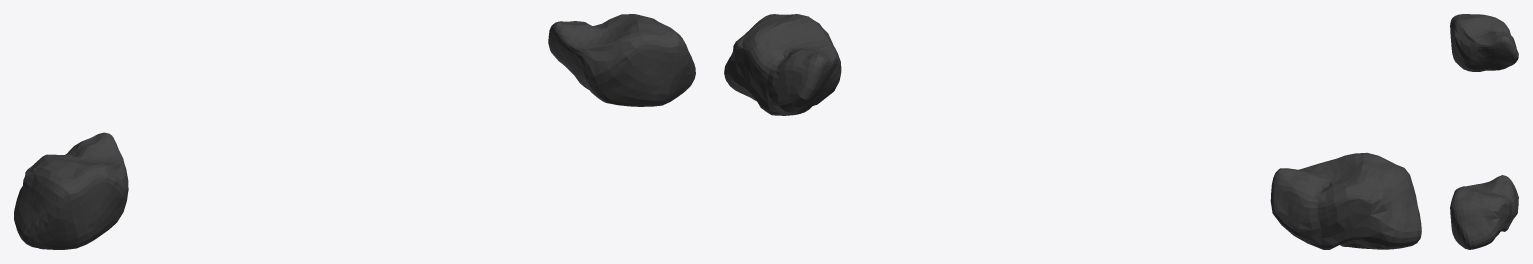
File: Carpal_intermedioradial_1.glb
3 views of the same model, side by side, from view 1: azimuth 30°, elevation 25°; view 2: azimuth 150°, elevation 25°; view 3: azimuth 270°, elevation 25° (orthographic). The views are drawn at different scales.
Visible parts, largest first — view 1: Carpal_intermedioradial_1; view 2: Carpal_intermedioradial_1; view 3: Carpal_intermedioradial_1.
Part boxes in pixels (left/top/right/bottom): Carpal_intermedioradial_1: left=14, top=14, right=695, bottom=249; Carpal_intermedioradial_1: left=724, top=14, right=1421, bottom=249; Carpal_intermedioradial_1: left=1450, top=14, right=1518, bottom=249.
Bounding box in the file's own units: 0.00342 × 0.000367 × 0.000482.
Materials: 1 (1 with a texture image).
